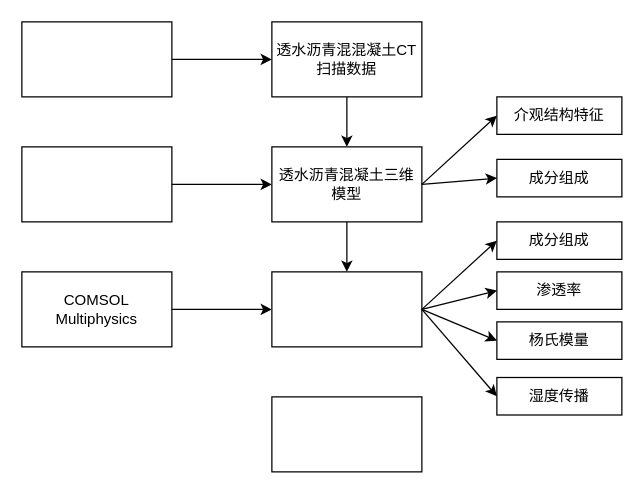
Some shapes in this 644 by 494 pixel diagram are drawn without their labels. The shapes that lost their labels are listed below. From the top down, each one's centre as x and y in pixels, then its label:
the point at 96,59: CT扫描
the point at 96,184: ImageJ，avizo数据预处理，各项划分
the point at 346,309: 透水沥青混凝土三维计算模型
the point at 346,434: 介观结构与宏观性能
